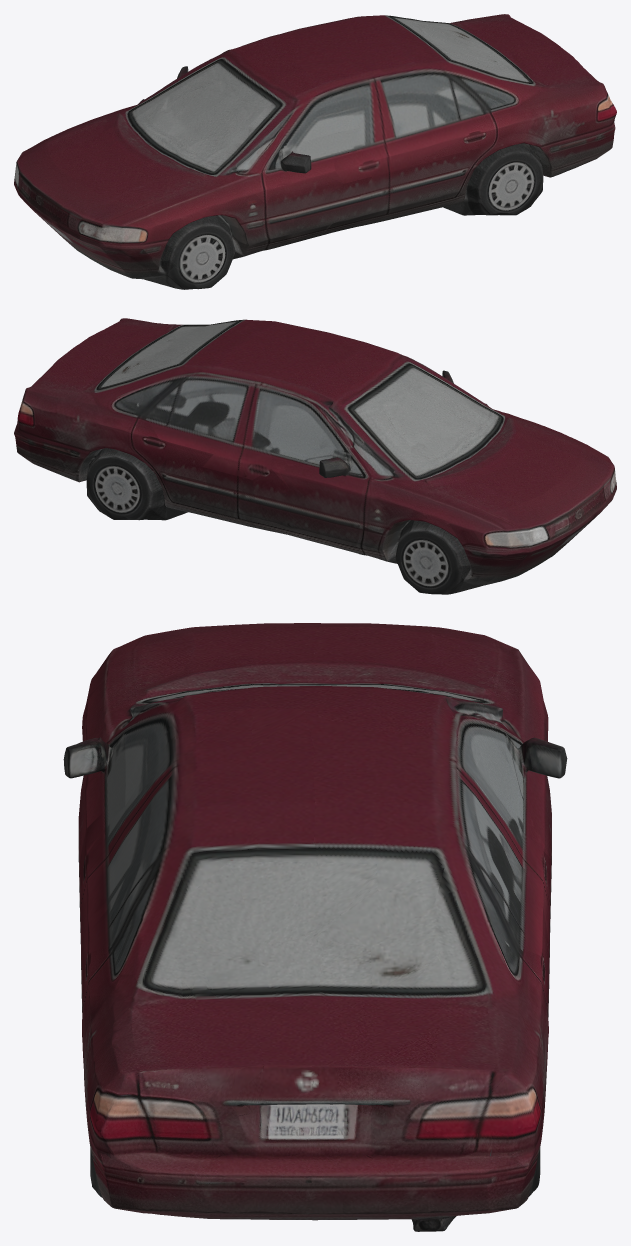
The model's file is maroon-saloon.glb.
3 renders of one model, top to bottom at view 1: azimuth 30°, elevation 25°; view 2: azimuth 150°, elevation 25°; view 3: azimuth 270°, elevation 25°, orthographic. The views are drawn at different scales.
Visible parts, largest first — view 1: Mesh_0; view 2: Mesh_0; view 3: Mesh_0.
Part boxes in pixels (x1,y1,x2,y2): Mesh_0: (14,14,616,289); Mesh_0: (14,318,616,594); Mesh_0: (63,623,567,1231).
Bounding box in the file's own units: 1.9 × 0.5467 × 0.7824.
1 material, 1 textured.
